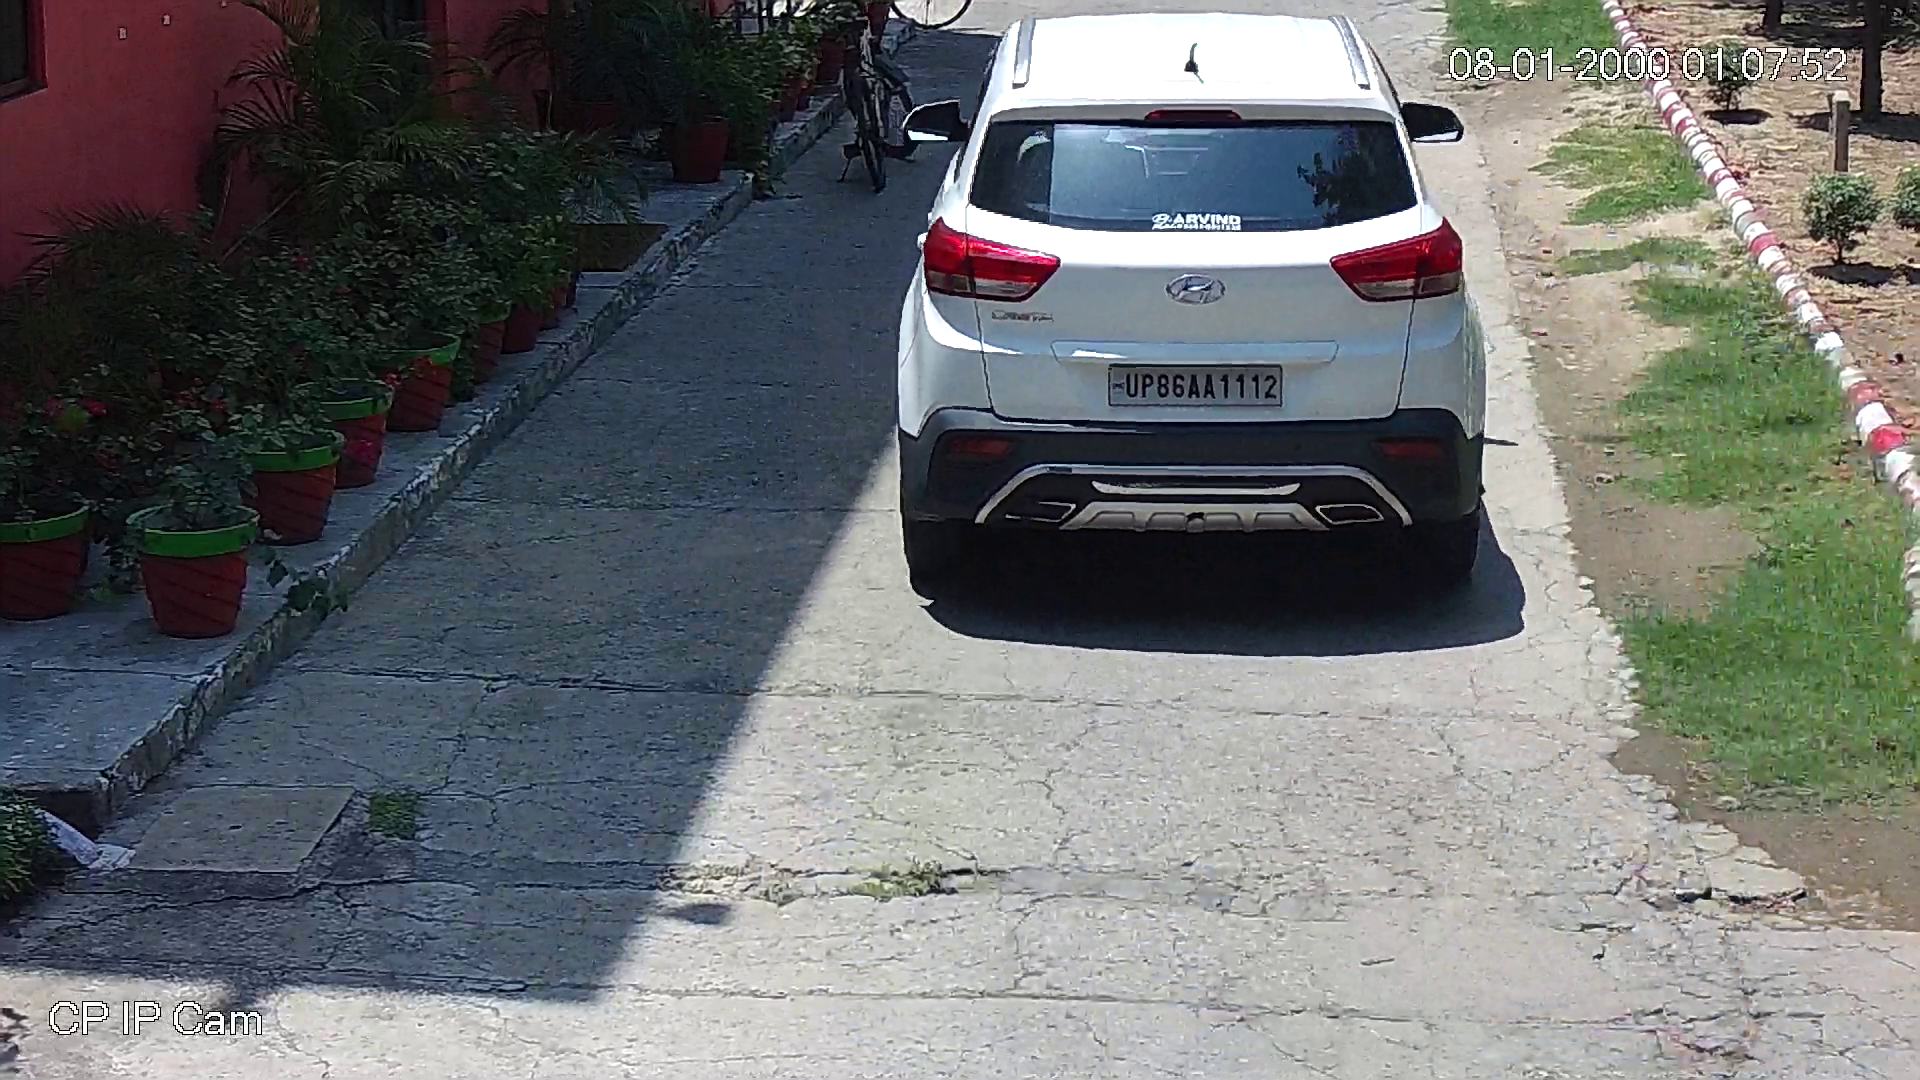plate: (1096, 357, 1295, 416)
